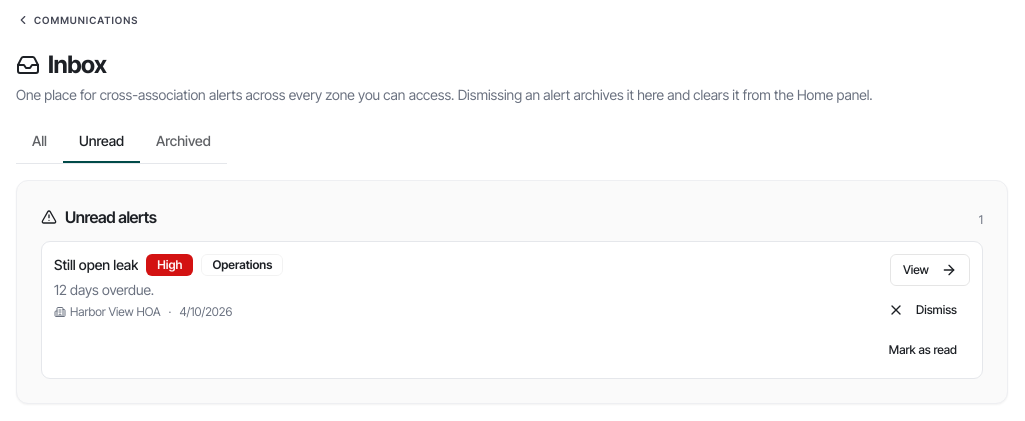
CommunicationsInboxPage — Archived tab filters to dismissed items › shows only alerts with dismissedAt != null when the Archived tab is active
Press the mouse on the tab with test id "inbox-tab-archived" at (183, 142), box [140,121,227,163]
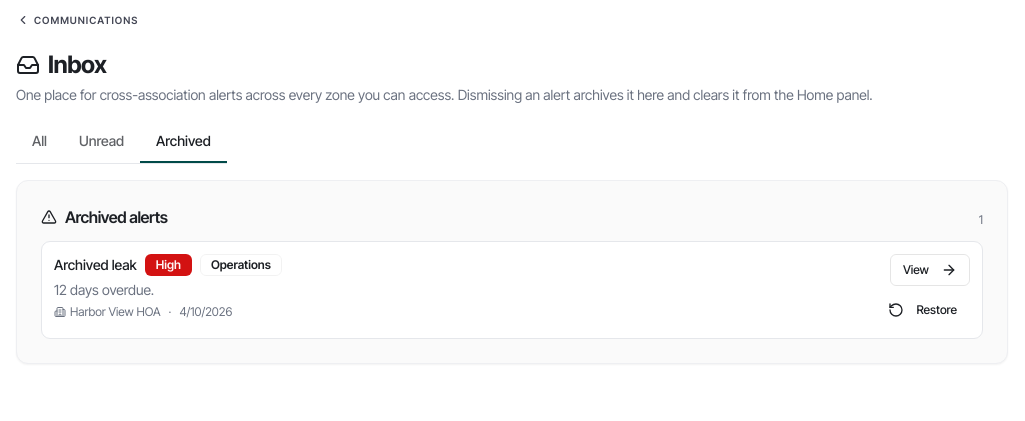
Check: the element with test id "inbox-alert-item-overdue-work-order:work_orders:wo-archived" is shown, box [41,241,983,339]
